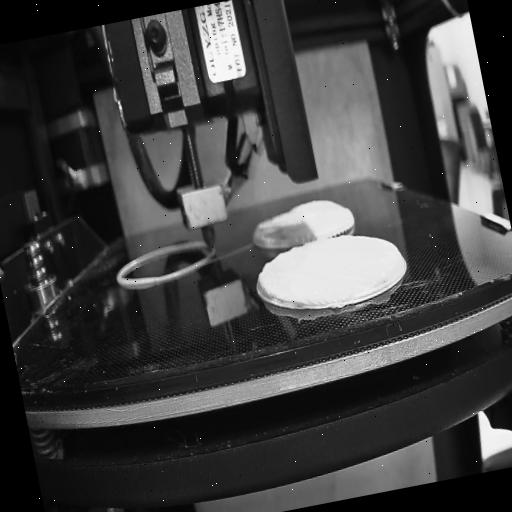over_extrusion: (256, 274, 278, 306)
